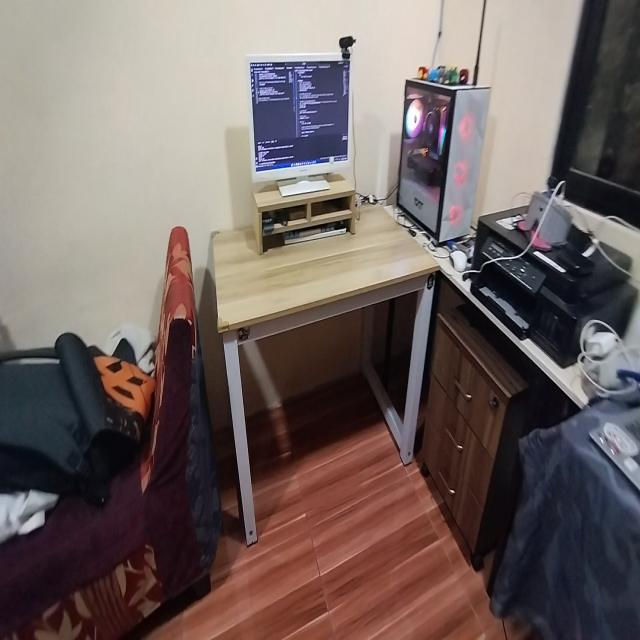table: (208, 194, 438, 532)
